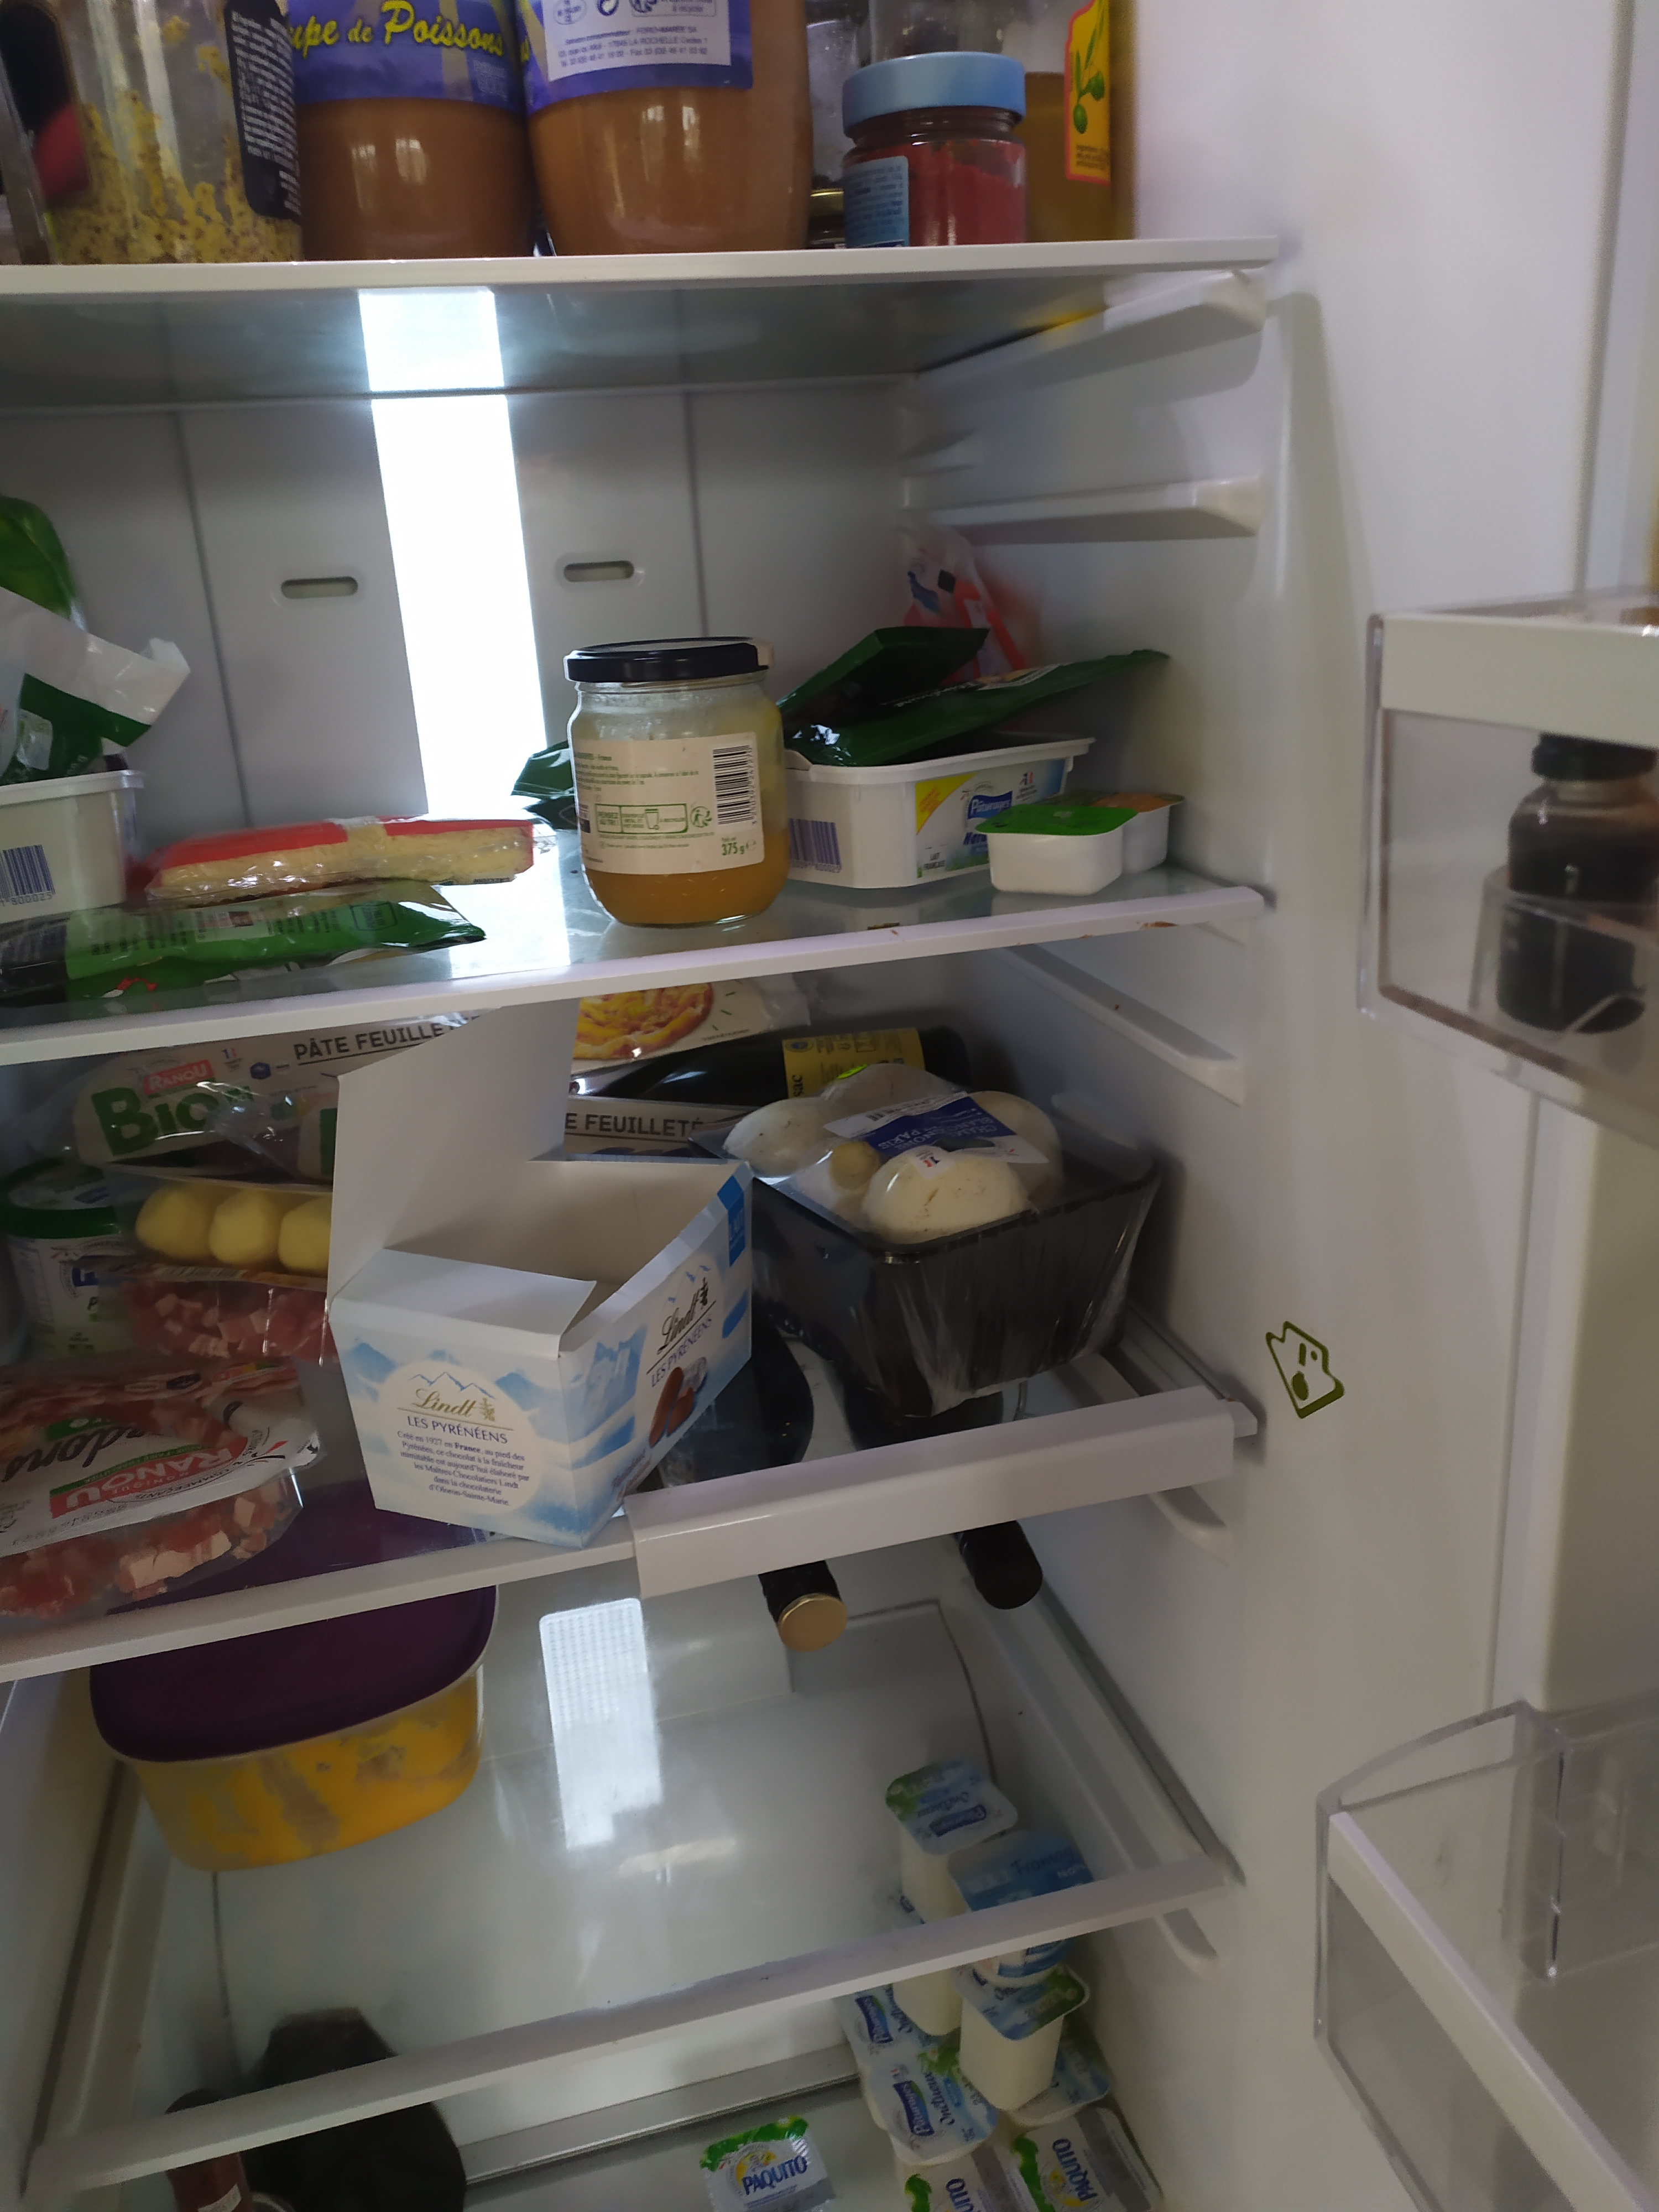bottle: (641, 1318, 856, 1651), (814, 1329, 1042, 1611), (582, 1022, 976, 1115), (146, 2094, 300, 2212)
mushroom: (735, 1055, 1147, 1392)
